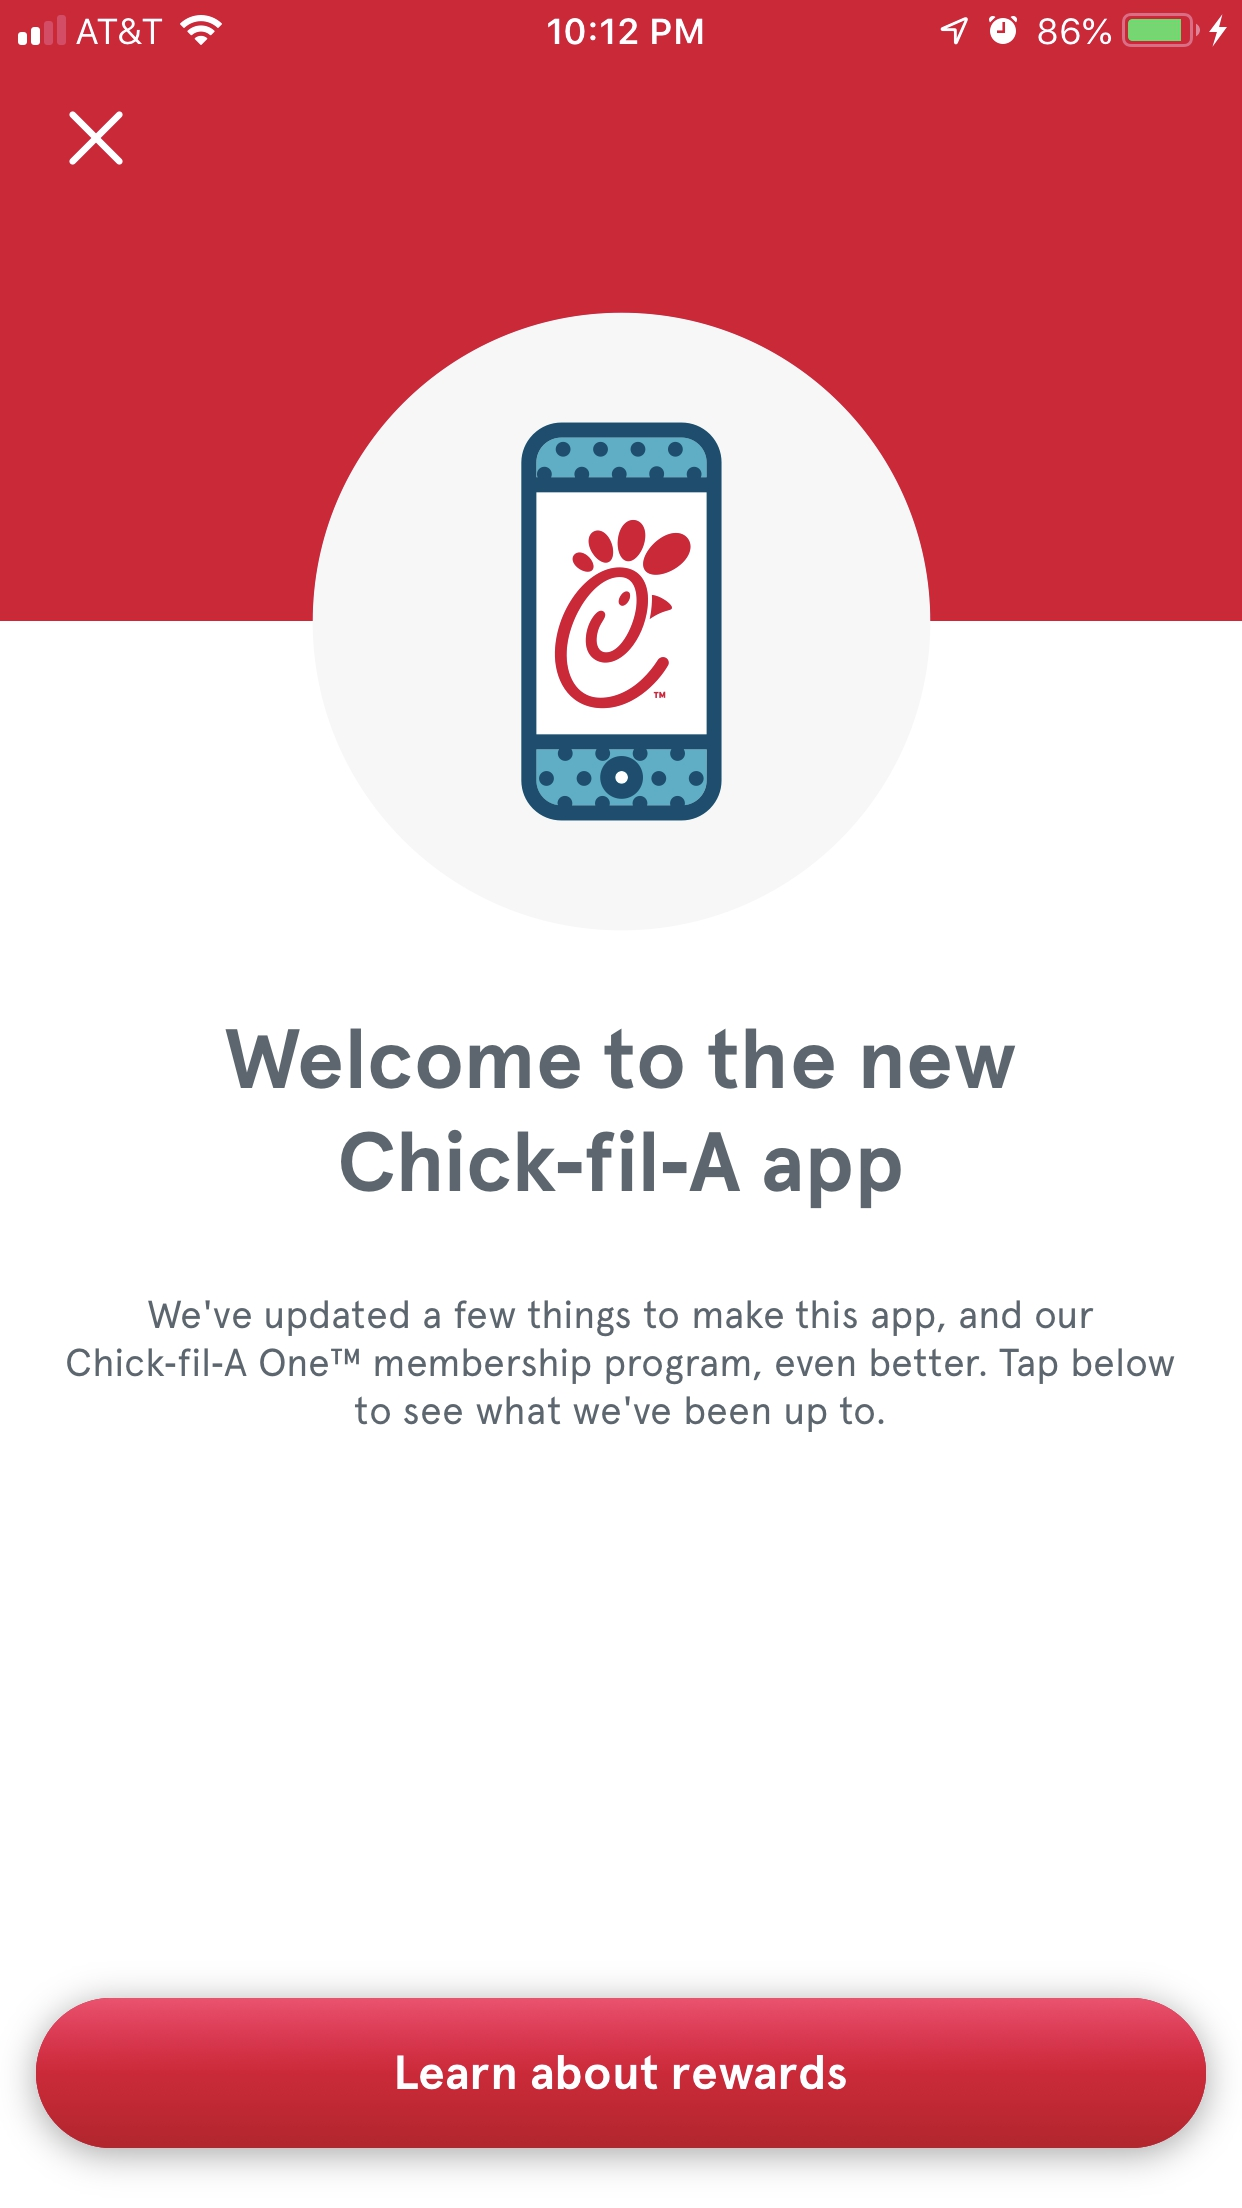Icon: (70, 111, 124, 167)
Image: (522, 422, 723, 822)
Text: (67, 1300, 1175, 1435), (226, 1027, 1018, 1209)
TextButton: (36, 1996, 1207, 2149)
UpperTaskBar: (2, 2, 1242, 50)
